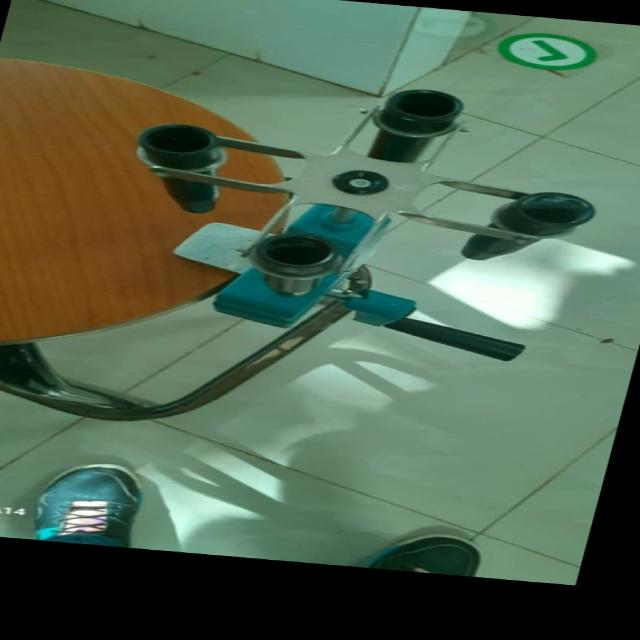Centrifuge: (90, 53, 640, 367)
